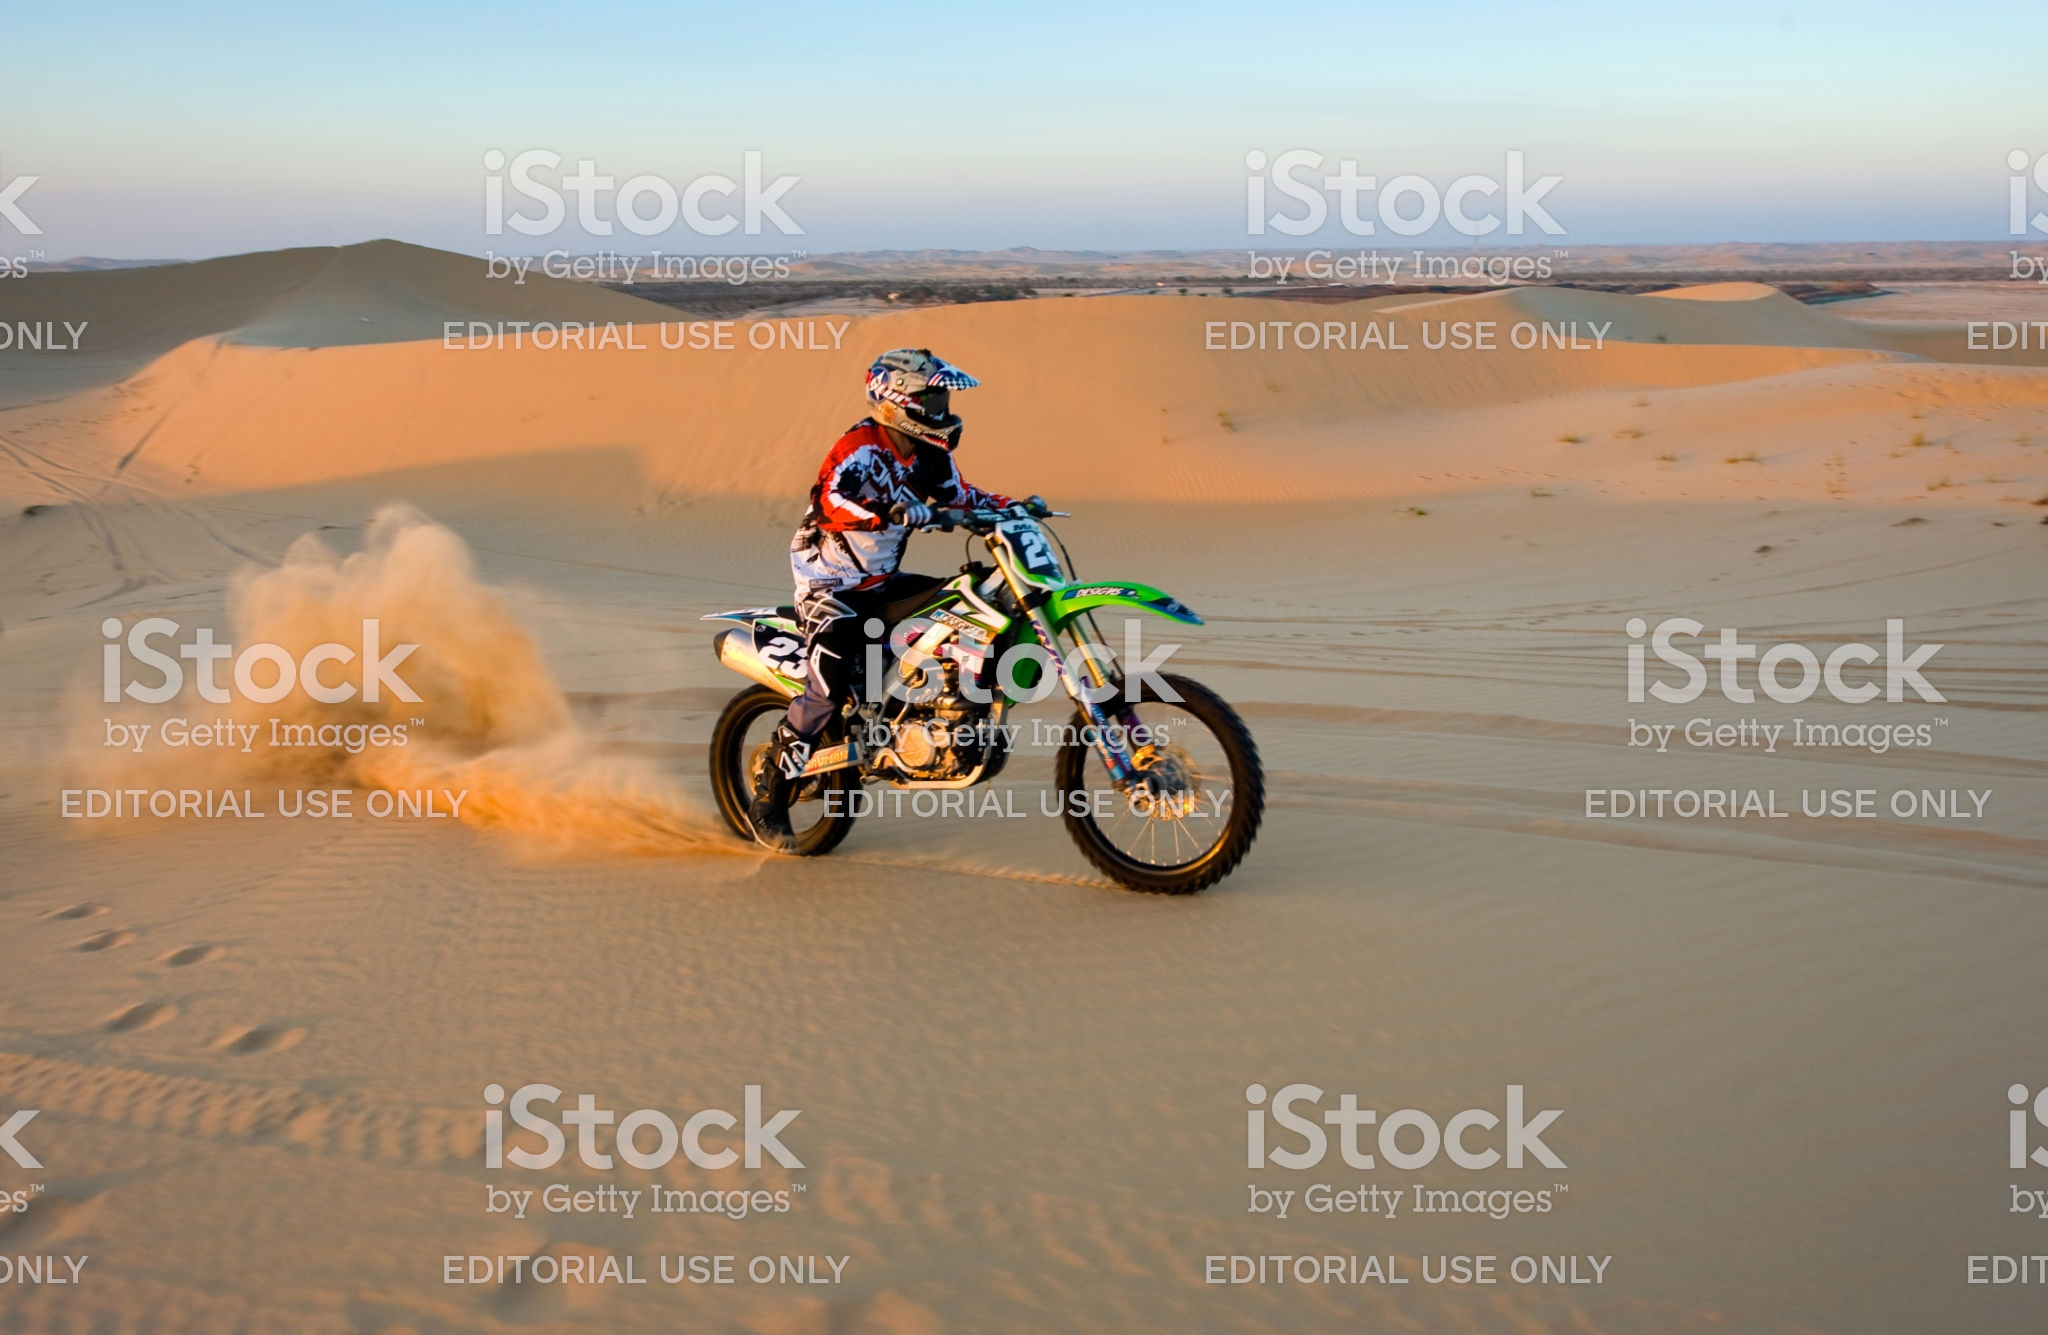helmet: (866, 354, 985, 449)
